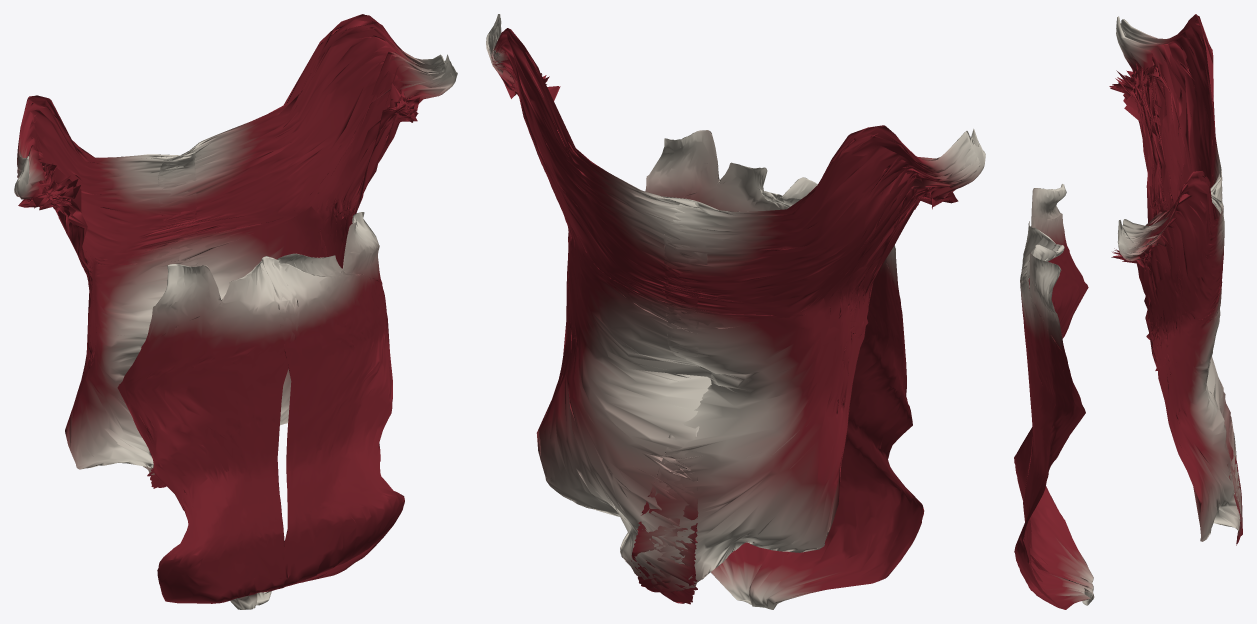
File: axon-roma-mobile-sa.glb
3 views of the same model, side by side, from view 1: azimuth 30°, elevation 25°; view 2: azimuth 150°, elevation 25°; view 3: azimuth 270°, elevation 25° (orthographic). The views are drawn at different scales.
Parts seen in each view (by area): view 1: muscles / tissue; view 2: muscles / tissue; view 3: muscles / tissue.
Part boxes in pixels (left/top/right/bottom): muscles / tissue: left=14, top=14, right=457, bottom=609; muscles / tissue: left=486, top=14, right=985, bottom=609; muscles / tissue: left=1014, top=14, right=1242, bottom=609.
Bounding box in the file's own units: 0.4056 × 0.45 × 0.1836.
